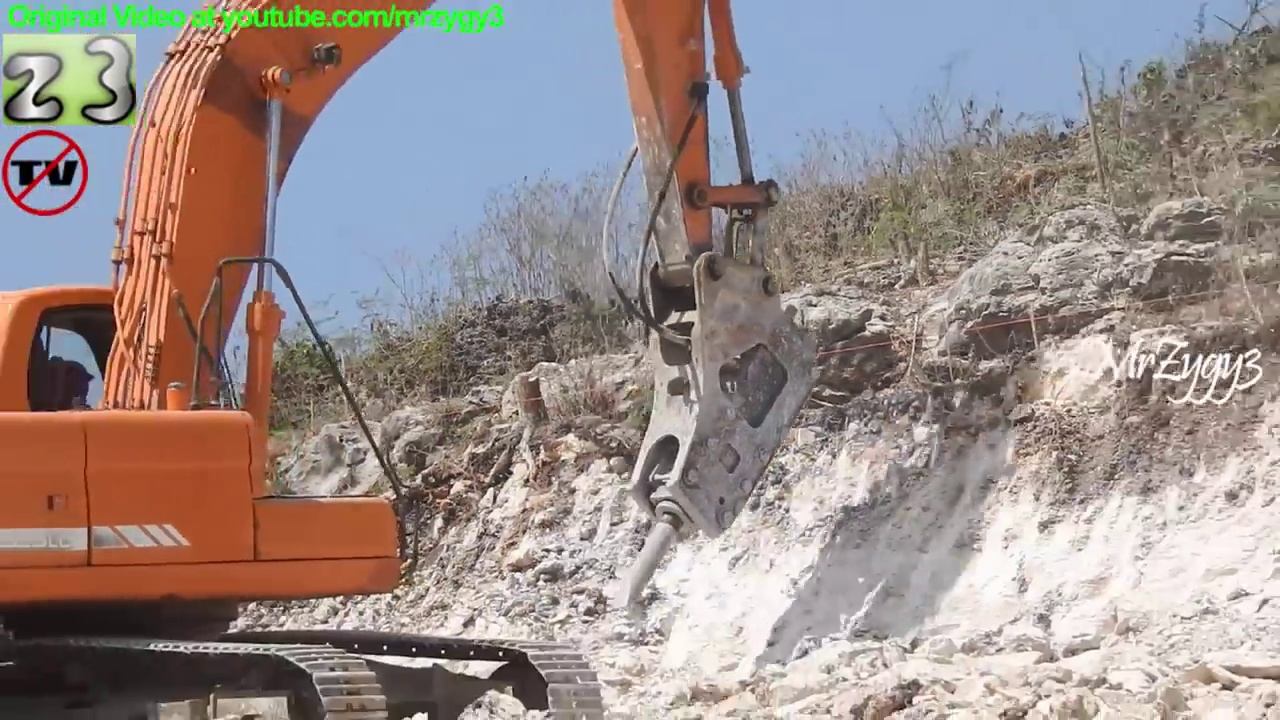excavator: (1, 1, 824, 720)
